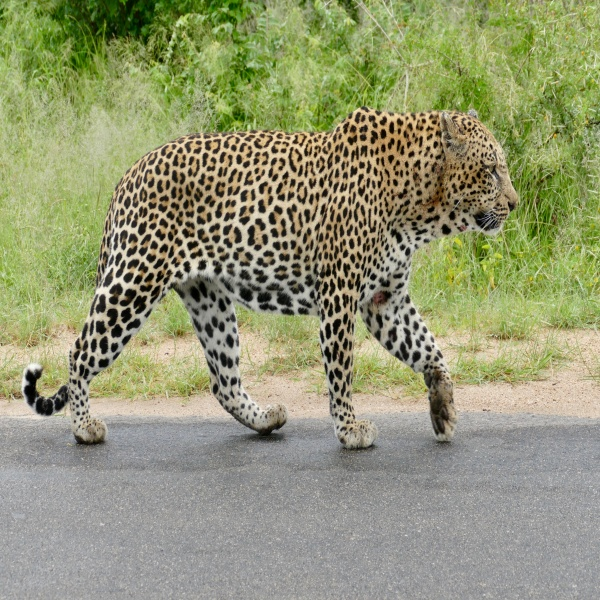Leopard: (17, 104, 526, 454)
